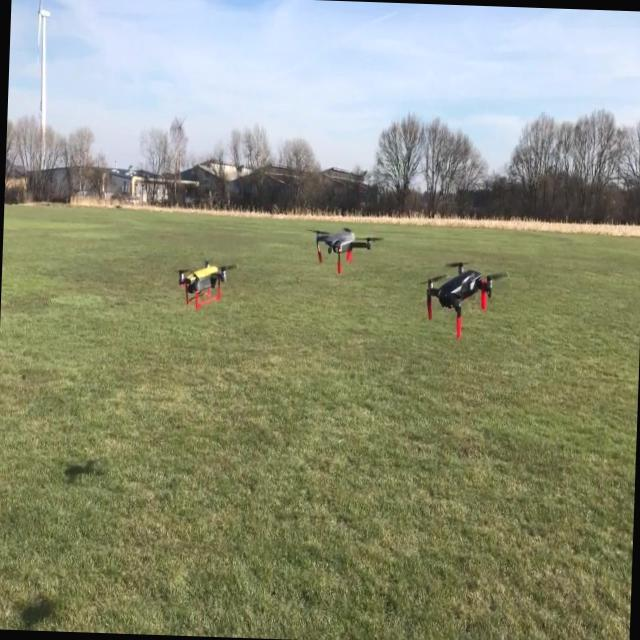drone: (420, 258, 504, 342), (309, 223, 381, 280), (172, 256, 242, 314)
